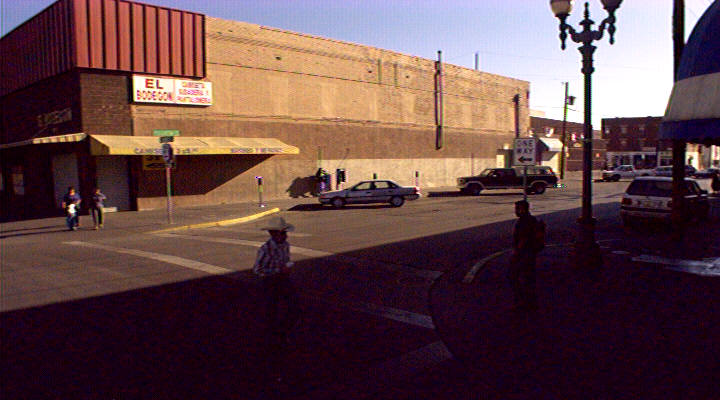Ramp: (1, 206, 187, 241)
